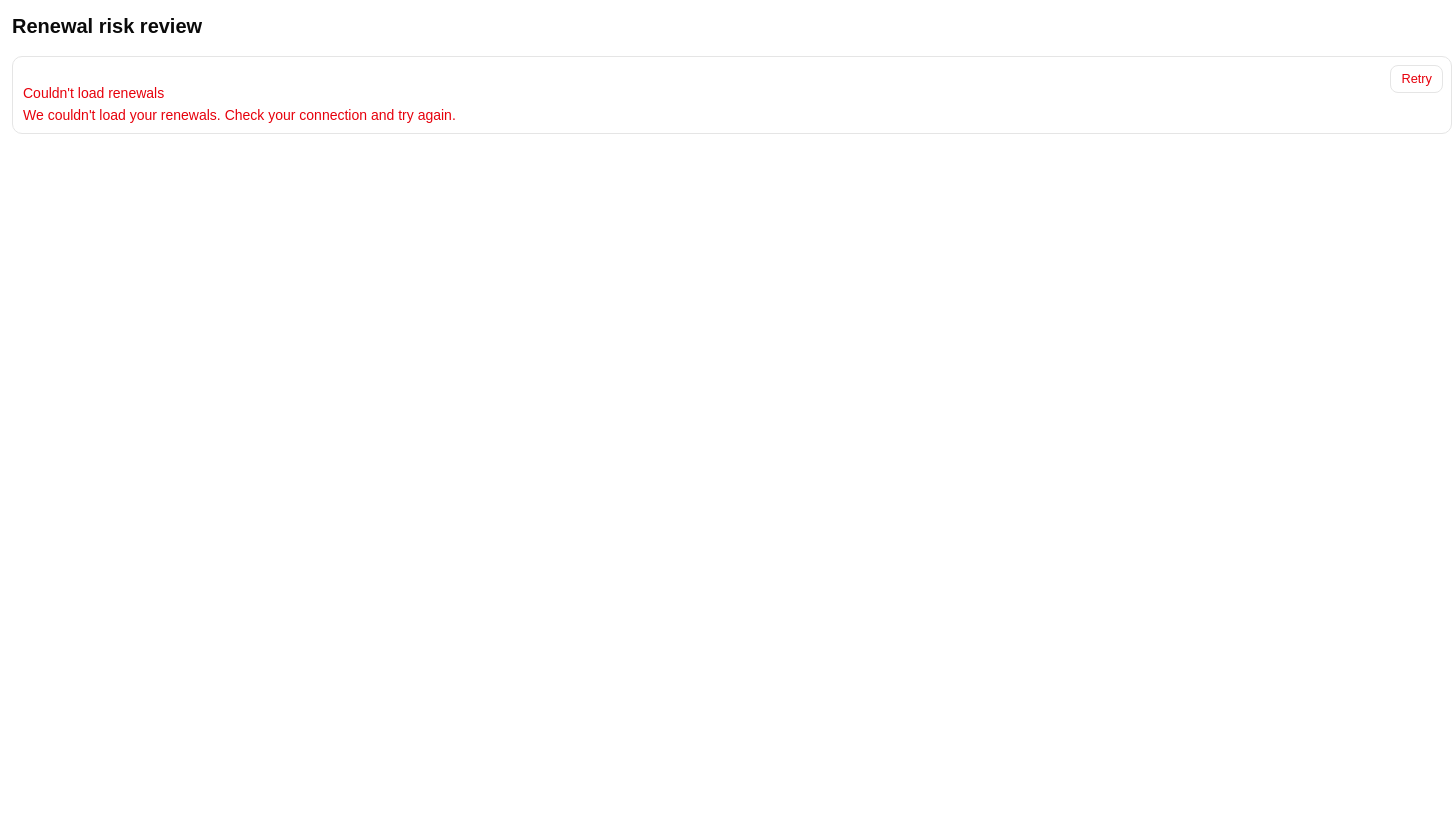
Scenario: Renewals page › shows empty and error states, and recovers with Retry
Expected: the text "Couldn't load renewals" is shown, [23,85,164,101]
Click the button "Retry": x=1417, y=79 [1390,65,1443,93]
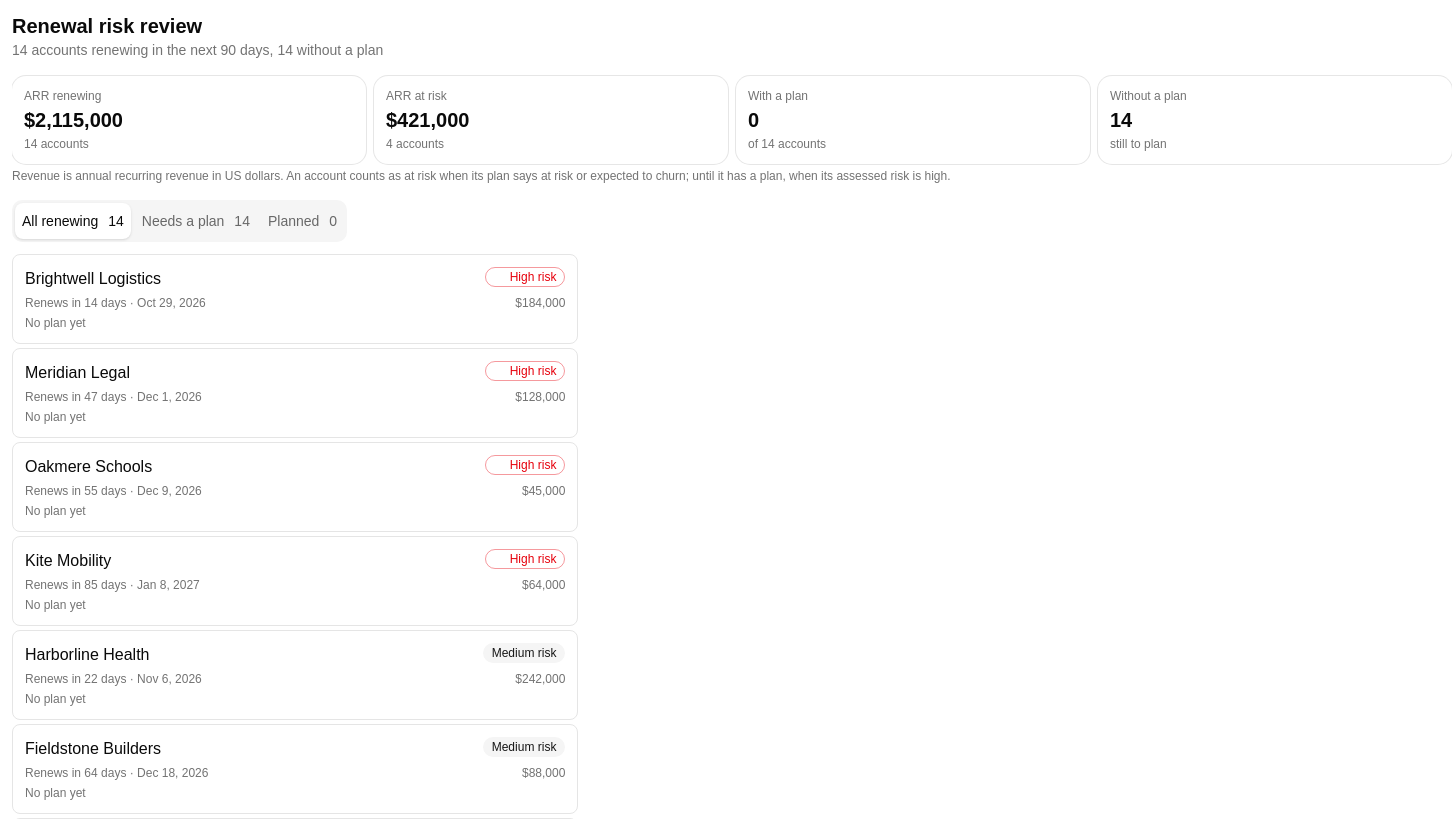
Expected: the text "14 accounts renewing in the next 90 days, 14 without a plan" is shown, [12,42,383,58]
